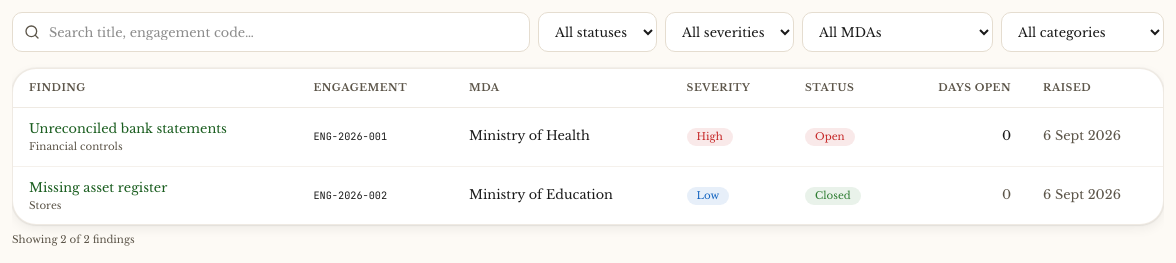
Scenario: FindingsTable › shows an empty state when filters match nothing
The image size is (1176, 263).
Type "zzz-no-match" into the search field named "Search findings" at (271, 32), box [12,12,530,52]
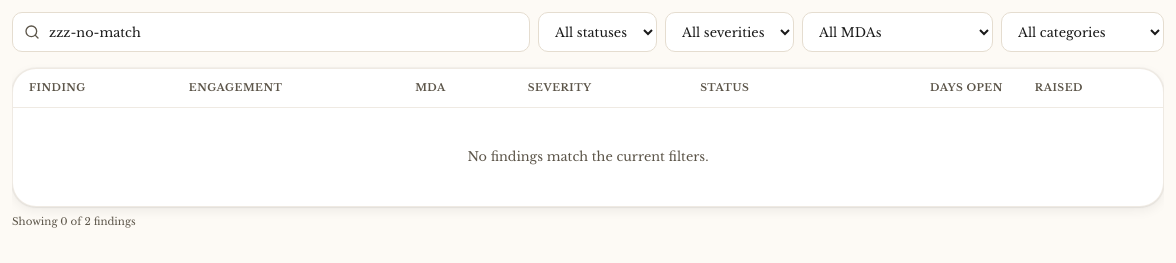
Check: the text "No findings match the current filters." is shown, box [13,107,1163,206]
